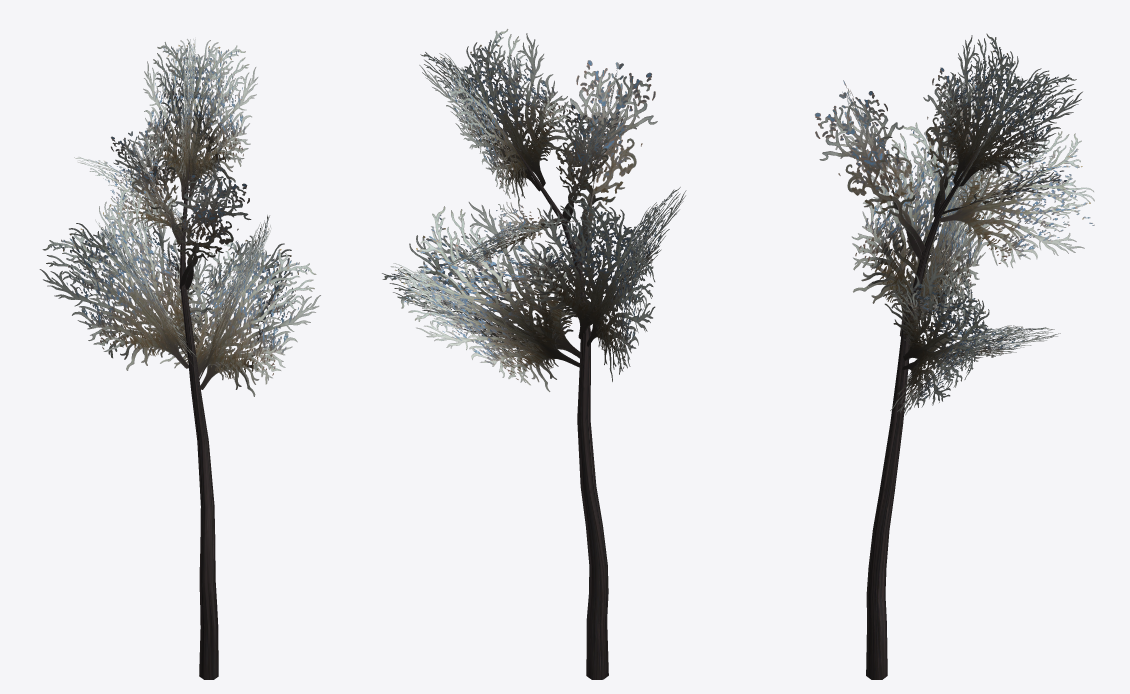
File: wintergrasp_bush_04.obj
3 renders of one model, left to right at view 1: azimuth 30°, elevation 25°; view 2: azimuth 150°, elevation 25°; view 3: azimuth 270°, elevation 25°, orthographic. The views are drawn at different scales.
Parts seen in each view (by area): view 1: Geoset1, Geoset0; view 2: Geoset1, Geoset0; view 3: Geoset1, Geoset0.
Part boxes in pixels (box(x1,y1,x2,y2)): Geoset1: box(39, 39, 320, 396); Geoset0: box(180, 151, 218, 679); Geoset1: box(382, 29, 686, 391); Geoset0: box(510, 140, 608, 679); Geoset1: box(815, 33, 1094, 415); Geoset0: box(866, 148, 978, 679).
Bounding box in the file's own units: 3.1 × 6.1 × 3.02.
2 materials, 2 textured.
